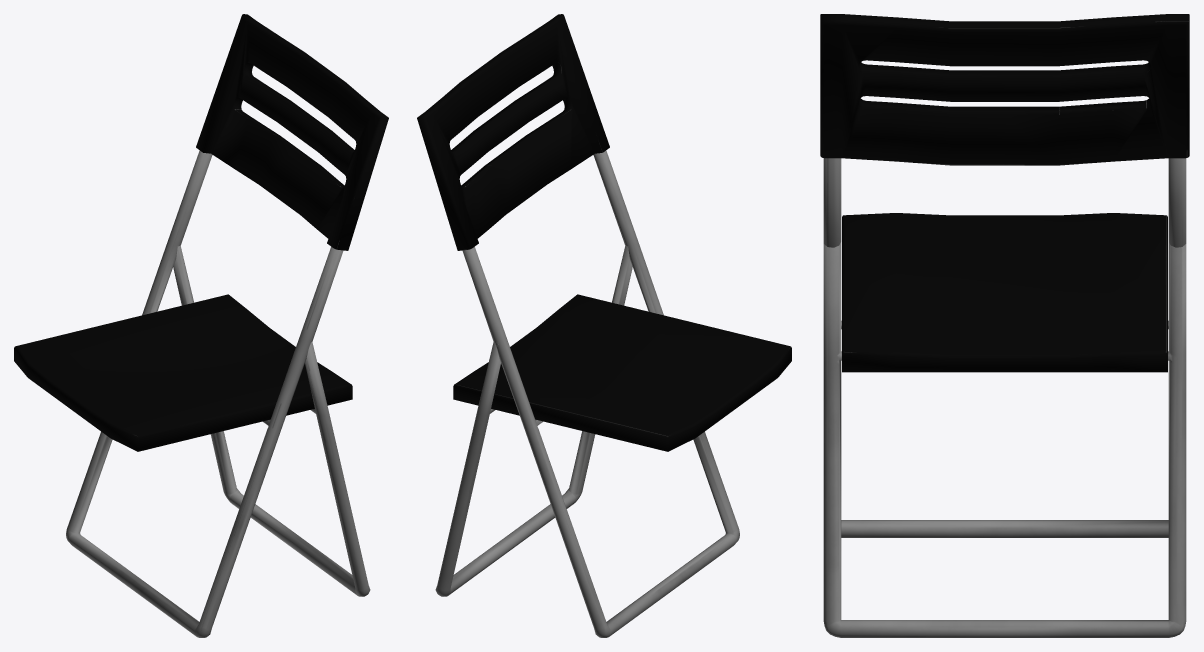
The model's file is FoldChair.fbx.
3 views of the same model, side by side, from view 1: azimuth 30°, elevation 25°; view 2: azimuth 150°, elevation 25°; view 3: azimuth 270°, elevation 25° (orthographic). The views are drawn at different scales.
Parts seen in each view (by area): view 1: FoldChair; view 2: FoldChair; view 3: FoldChair.
Part boxes in pixels (bbox=[...]): FoldChair: bbox=[14, 14, 388, 637]; FoldChair: bbox=[417, 14, 791, 637]; FoldChair: bbox=[820, 14, 1189, 637].
Size of the model in its own units: 103 by 185 by 97.21.
